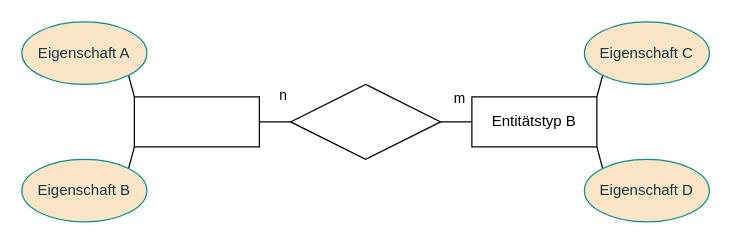
Image size: 731x244. Some labels were removed from this diagram. Each missing label, with the centre of its shape:
Beziehungstyp: the point at 365,121
Entitätstyp A: the point at 196,121
